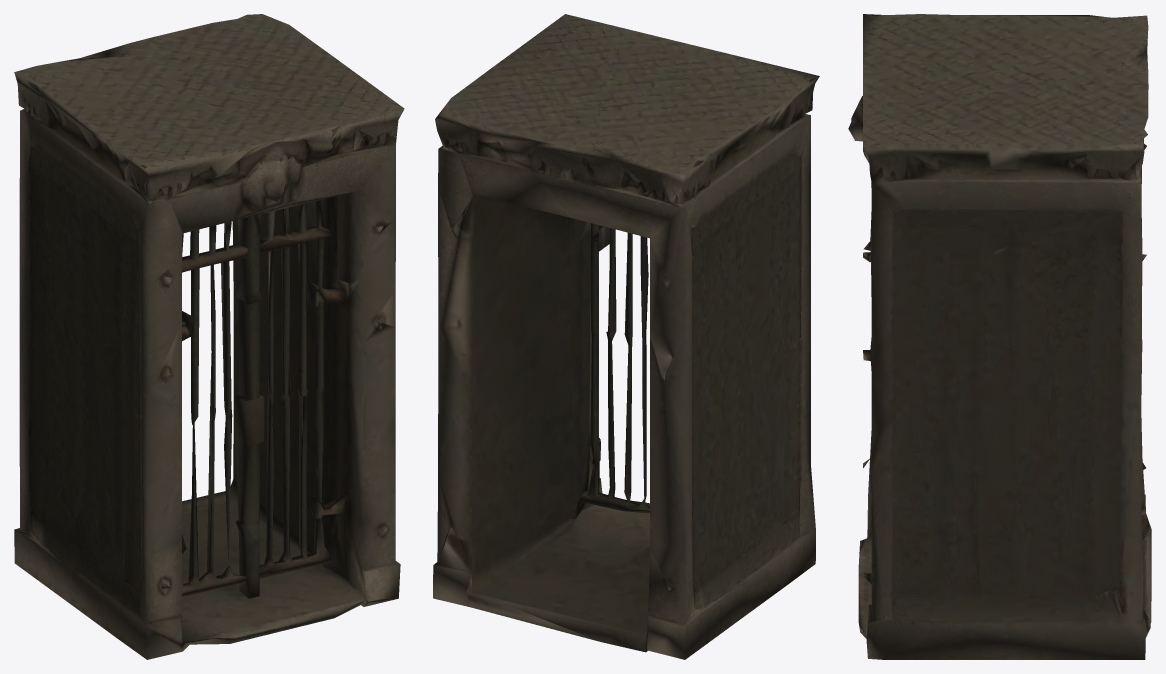
File: gate.glb
3 views of the same model, side by side, from view 1: azimuth 30°, elevation 25°; view 2: azimuth 150°, elevation 25°; view 3: azimuth 270°, elevation 25° (orthographic). The views are drawn at different scales.
Size of the model in its own units: 1.04 by 1.9 by 1.01.
1 material, 1 textured.
